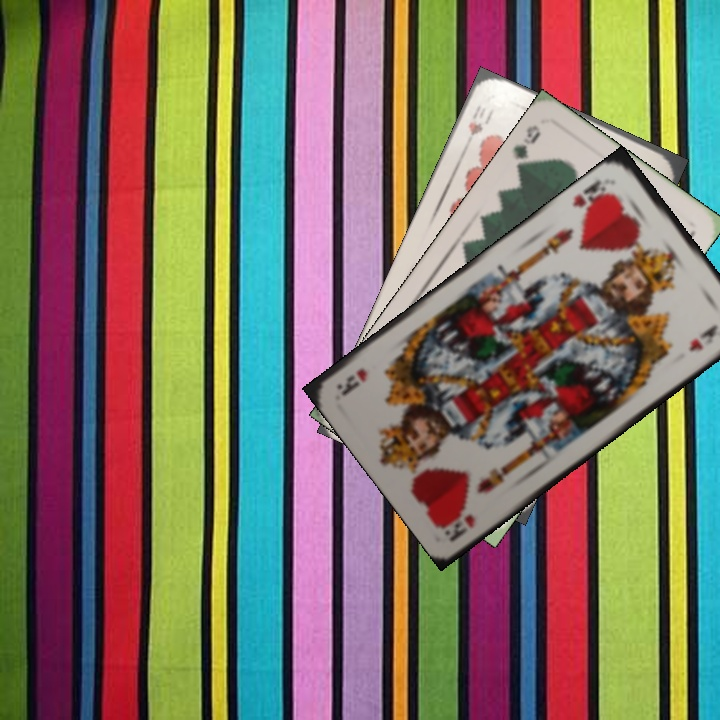G9: (509, 121, 544, 176)
H10: (463, 100, 497, 139)
HK: (567, 175, 616, 218), (441, 510, 478, 543)
